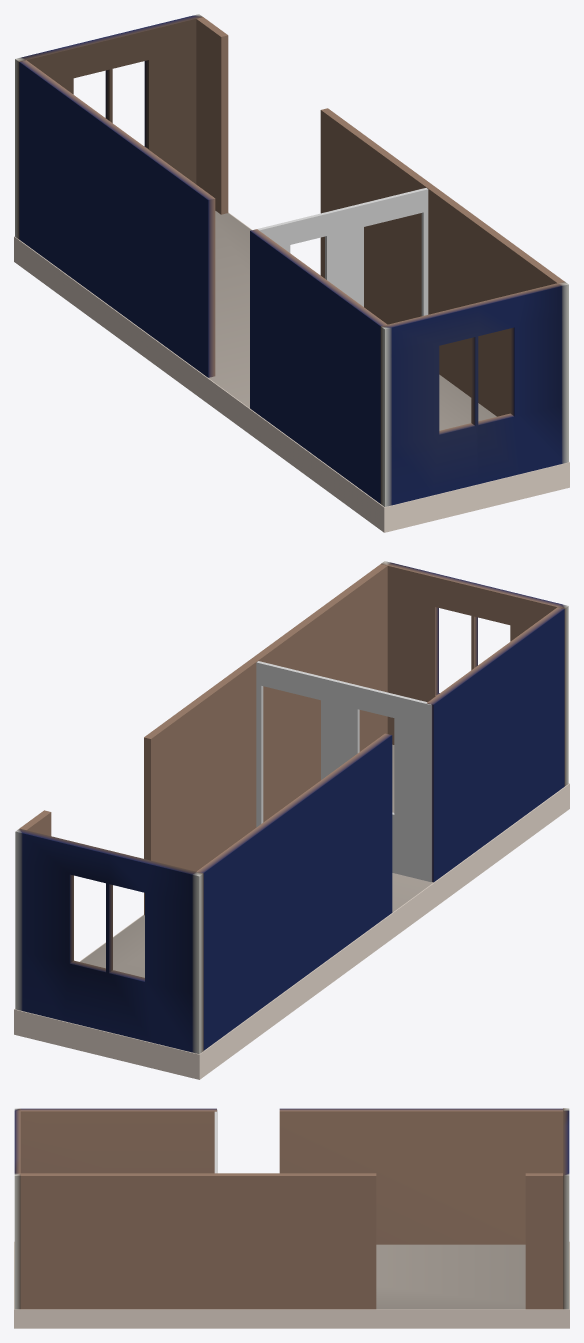
File: Bod3.fbx
3 renders of one model, top to bottom at view 1: azimuth 30°, elevation 25°; view 2: azimuth 150°, elevation 25°; view 3: azimuth 270°, elevation 25°, orthographic. The views are drawn at different scales.
Visible parts, largest first — view 1: WallLong2.001, WallLong1.003, WallShortDoubleWindows.005, Floor.004, WallShortDoubleWindows.004, WallShortDoorInteriorOffice; view 2: WallLong2.001, WallLong1.003, WallShortDoubleWindows.004, Floor.004, WallShortDoorInteriorOffice, WallShortDoubleWindows.005; view 3: WallLong1.003, WallLong2.001, Floor.004, WallShortDoubleWindows.004, WallShortDoubleWindows.005.
Part boxes in pixels (x1=…): WallLong2.001: x1=19, y1=60, x2=387, y2=503; WallLong1.003: x1=196, y1=17, x2=564, y2=416; WallShortDoubleWindows.005: x1=380, y1=281, x2=568, y2=506; Floor.004: x1=14, y1=211, x2=569, y2=532; WallShortDoubleWindows.004: x1=15, y1=14, x2=202, y2=239; WallShortDoorInteriorOffice: x1=257, y1=188, x2=428, y2=316; WallLong2.001: x1=197, y1=607, x2=564, y2=1050; WallLong1.003: x1=19, y1=564, x2=387, y2=915; WallShortDoubleWindows.004: x1=15, y1=828, x2=203, y2=1054; Floor.004: x1=14, y1=744, x2=569, y2=1079; WallShortDoorInteriorOffice: x1=256, y1=661, x2=431, y2=881; WallShortDoubleWindows.005: x1=381, y1=561, x2=568, y2=786; WallLong1.003: x1=20, y1=1173, x2=562, y2=1309; WallLong2.001: x1=20, y1=1108, x2=562, y2=1244; Floor.004: x1=14, y1=1241, x2=569, y2=1328; WallShortDoubleWindows.004: x1=563, y1=1108, x2=569, y2=1309; WallShortDoubleWindows.005: x1=14, y1=1108, x2=20, y2=1309.
Size of the model in its own units: 262 by 274 by 905.
